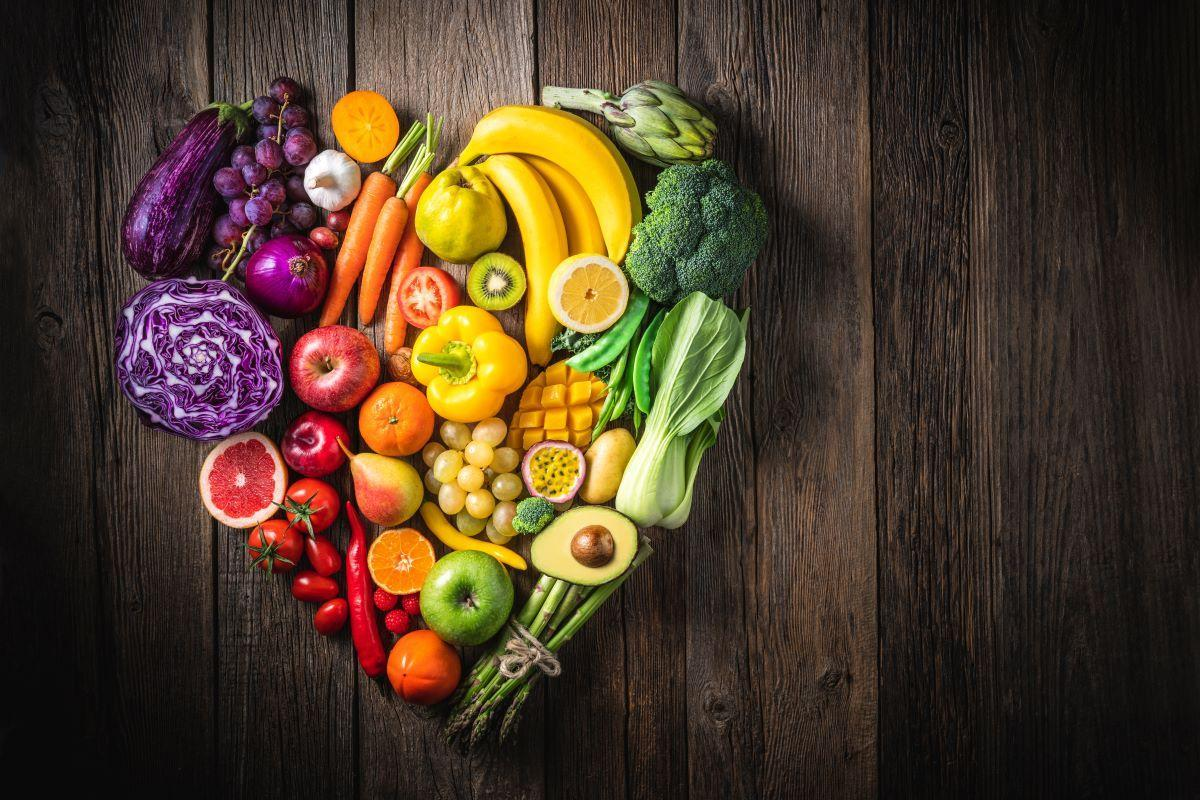apple: (287, 323, 381, 413), (280, 412, 350, 478)
